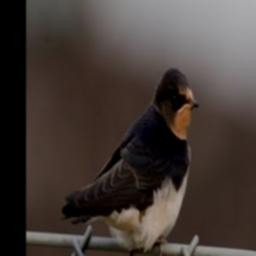Swallow: (60, 64, 199, 256)
